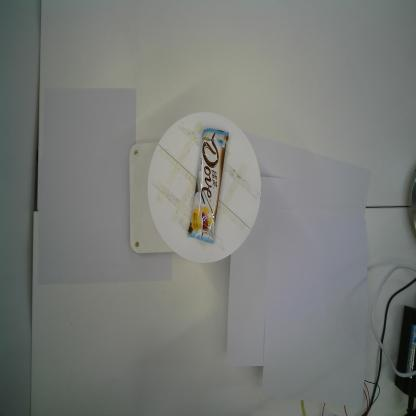Chocolate: (185, 126, 230, 247)
